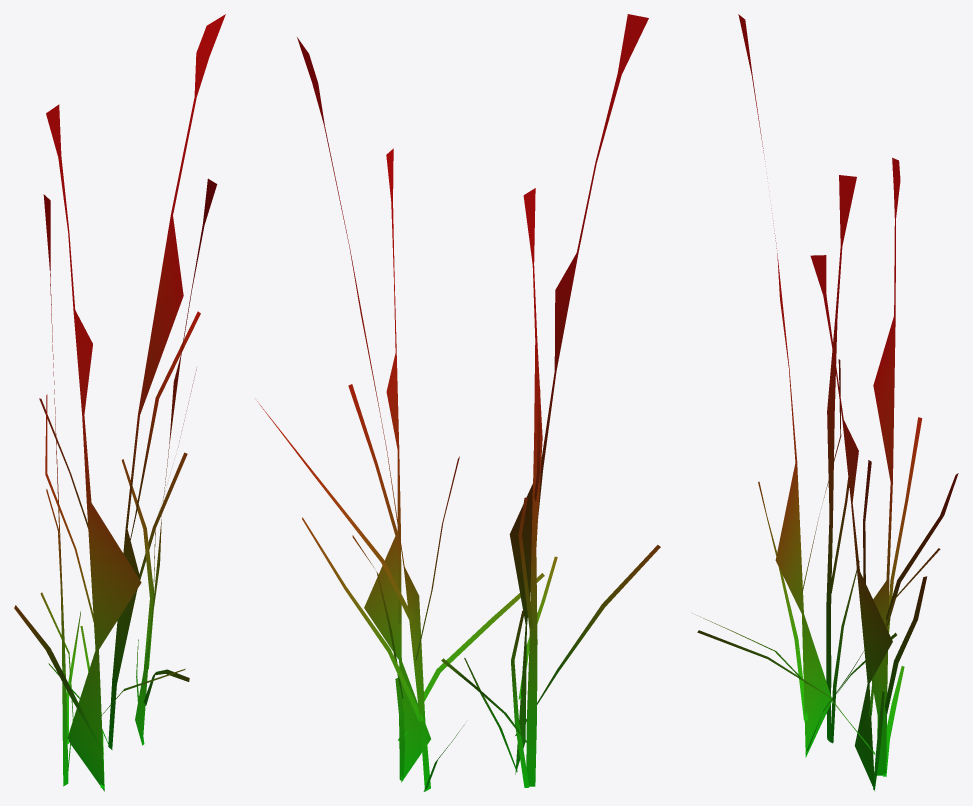
The model's file is Tundra Grass_LOD5_Var34_wk2oaeyqx.fbx.
The picture shows the model from 3 angles, left to right: view 1: azimuth 30°, elevation 25°; view 2: azimuth 150°, elevation 25°; view 3: azimuth 270°, elevation 25°; orthographic projection. The views are drawn at different scales.
Parts seen in each view (by area): view 1: _9bcy_Var34_LOD5; view 2: _9bcy_Var34_LOD5; view 3: _9bcy_Var34_LOD5.
Boxes of the visible parts, x1,y1,x2,y2 form: _9bcy_Var34_LOD5: (14,14,225,791); _9bcy_Var34_LOD5: (257,14,660,791); _9bcy_Var34_LOD5: (692,14,958,790).
Size of the model in its own units: 19.93 by 47.98 by 16.67.
